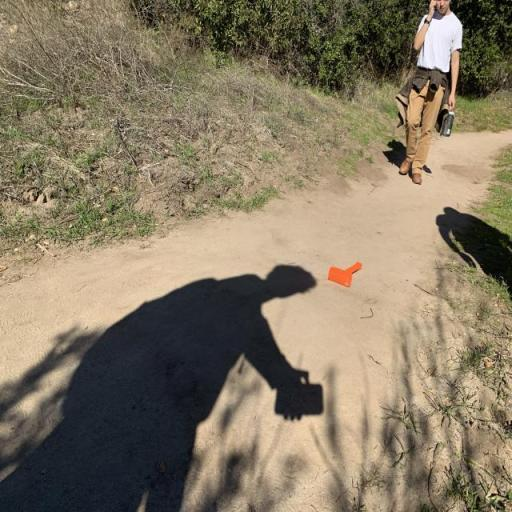mallet: (327, 260, 363, 288)
